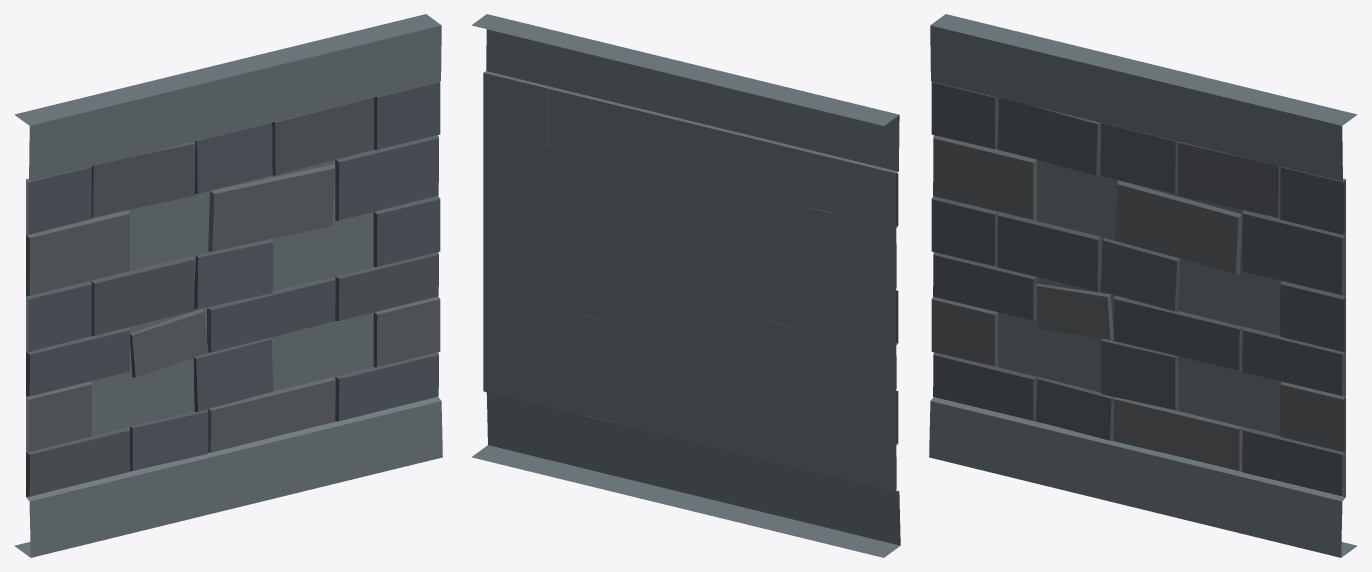
File: Wall_2.fbx
3 views of the same model, side by side, from view 1: azimuth 30°, elevation 25°; view 2: azimuth 150°, elevation 25°; view 3: azimuth 330°, elevation 25° (orthographic).
Parts seen in each view (by area): view 1: Wall_2; view 2: Wall_2; view 3: Wall_2.
Part boxes in pixels (left/top/right/bottom): Wall_2: left=14, top=14, right=442, bottom=557; Wall_2: left=471, top=14, right=900, bottom=557; Wall_2: left=929, top=14, right=1357, bottom=557.
Bounding box in the file's own units: 200 × 200 × 14.04.
